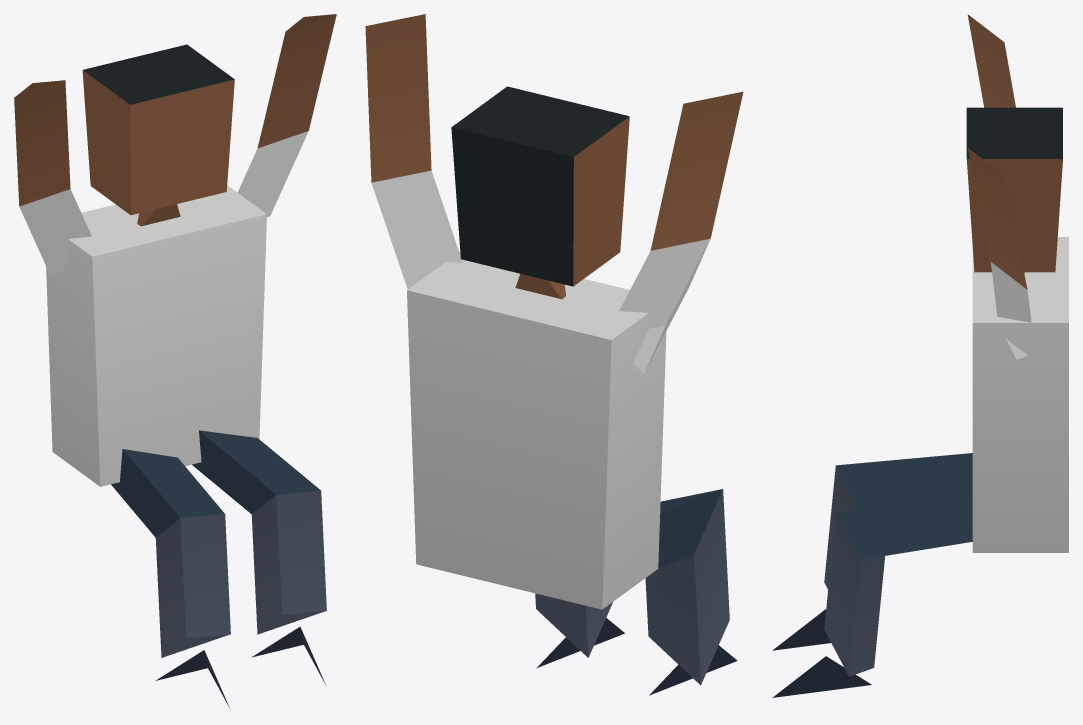
File: fan-02.glb
The picture shows the model from 3 angles, left to right: view 1: azimuth 30°, elevation 25°; view 2: azimuth 150°, elevation 25°; view 3: azimuth 270°, elevation 25°; orthographic projection. The views are drawn at different scales.
Parts seen in each view (by area): view 1: fan-02; view 2: fan-02; view 3: fan-02.
Boxes of the visible parts, x1,y1,x2,y2 form: fan-02: (14,14,336,709); fan-02: (365,14,743,695); fan-02: (772,14,1068,697).
Bounding box in the file's own units: 0.9475 × 1.68 × 0.77.
